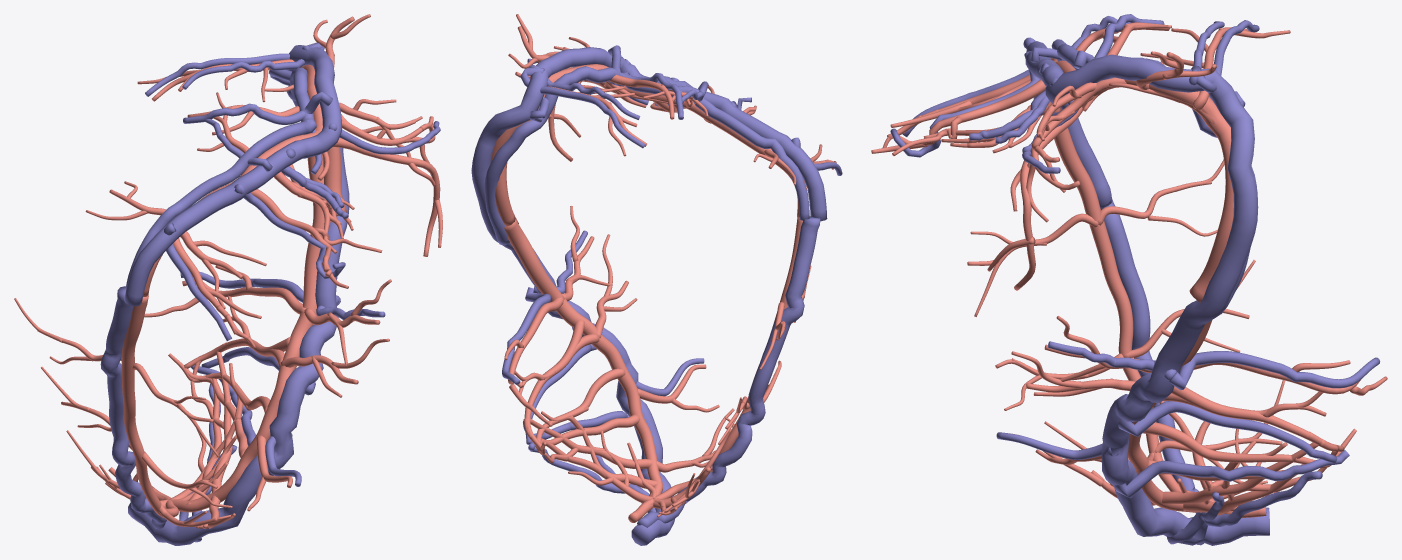
The model's file is vessels_18.glb.
3 renders of one model, left to right at view 1: azimuth 30°, elevation 25°; view 2: azimuth 150°, elevation 25°; view 3: azimuth 270°, elevation 25°, orthographic. The views are drawn at different scales.
Parts seen in each view (by area): view 1: Renderer Node; view 2: Renderer Node; view 3: Renderer Node.
Boxes of the visible parts, bbox=[...] form: Renderer Node: bbox=[14, 14, 442, 545]; Renderer Node: bbox=[471, 14, 842, 545]; Renderer Node: bbox=[871, 14, 1387, 545].
Size of the model in its own units: 84.56 by 114 by 89.59.
